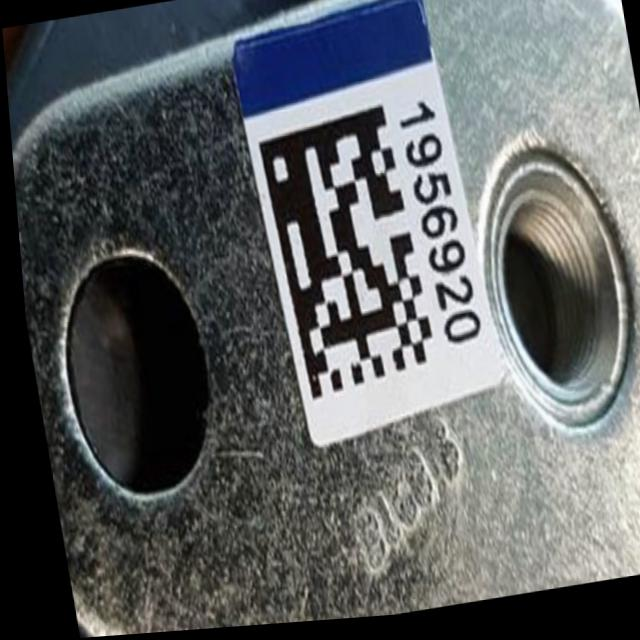datamatrix: (252, 108, 433, 407)
